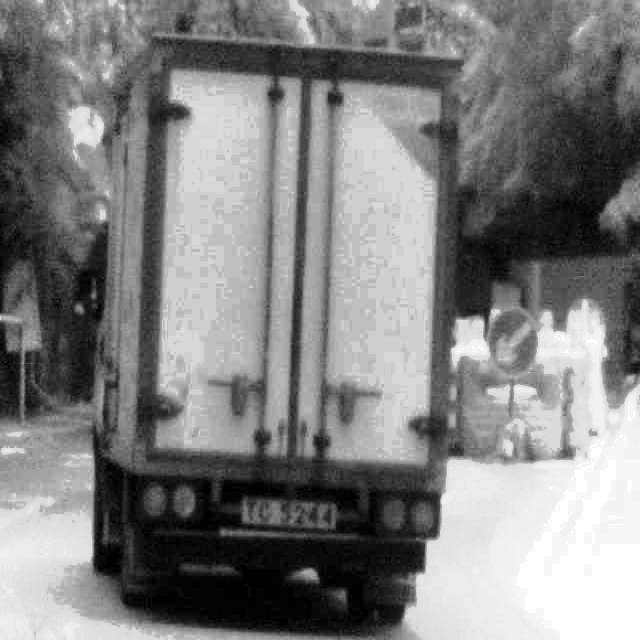Truck: (90, 29, 464, 623)
